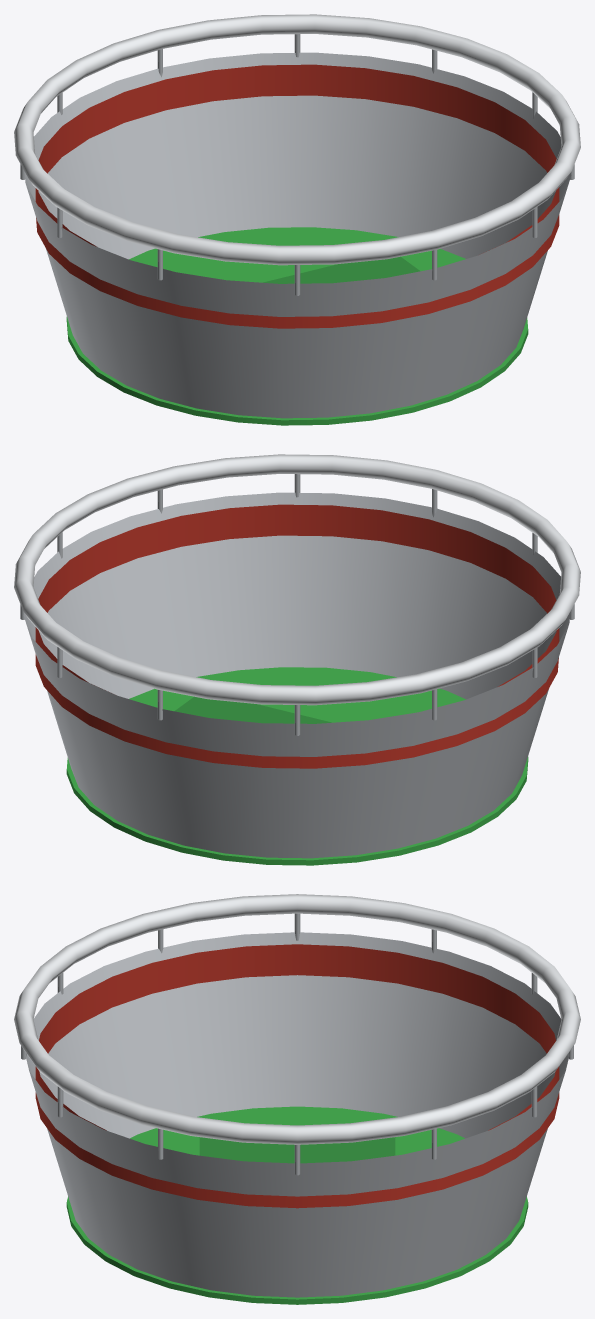
Rendered from stadion_gbk.glb.
3 renders of one model, top to bottom at view 1: azimuth 30°, elevation 25°; view 2: azimuth 150°, elevation 25°; view 3: azimuth 270°, elevation 25°, orthographic.
Size of the model in its own units: 29 by 11.03 by 29.
